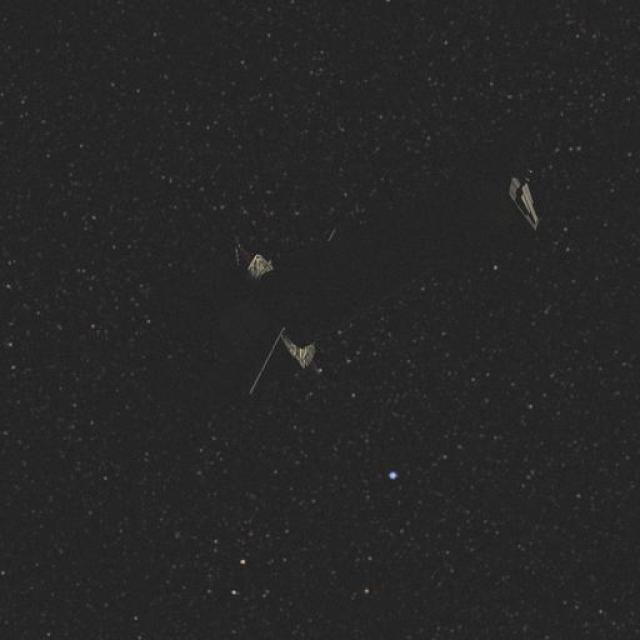xmm_newton: (192, 155, 552, 406)
